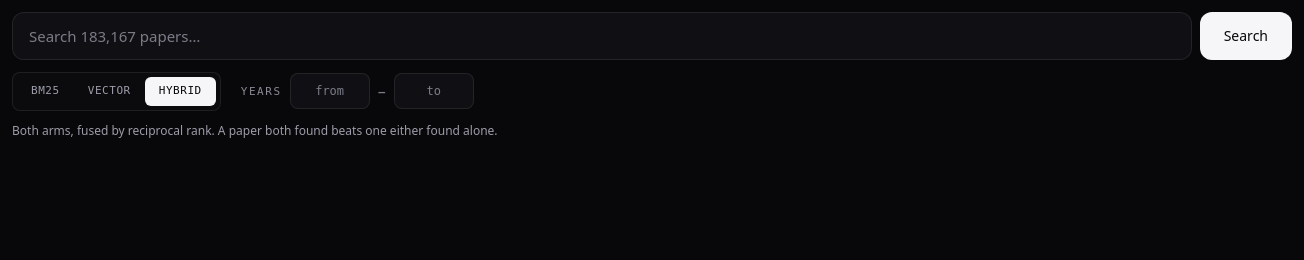
App › submits the query with year bounds only when they are set
Type "text simplification" into the field named "Query" at [602, 36], box [12,12,1192,60]
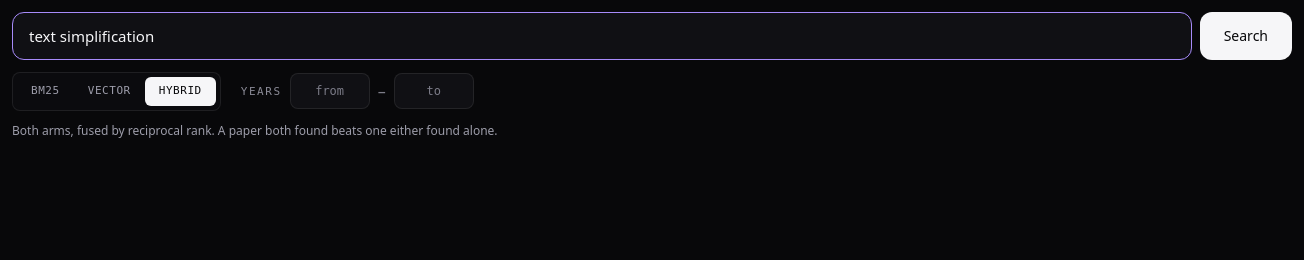
Type "2020" into the field named "Year from" at [330, 91], box [290,73,370,109]
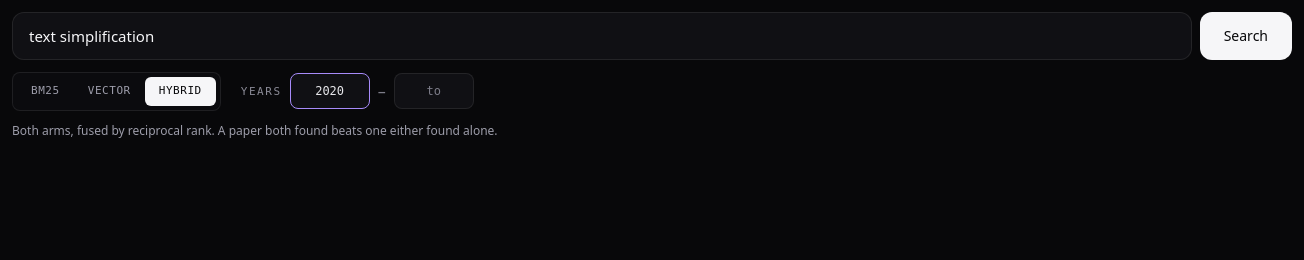
Click the button "Search" at [1246, 36], box [1200,12,1292,60]
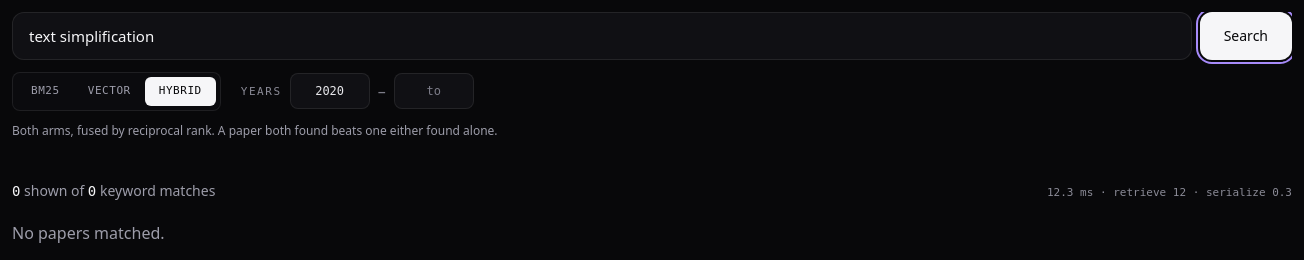
Expected: the text "0 shown of 0 keyword matches" is shown, [12,180,215,200]
Expected: the text "12.3 ms · retrieve 12 · serialize 0.3" is shown, [1047,184,1292,200]
Expected: the text "No papers matched." is shown, [12,222,164,244]
